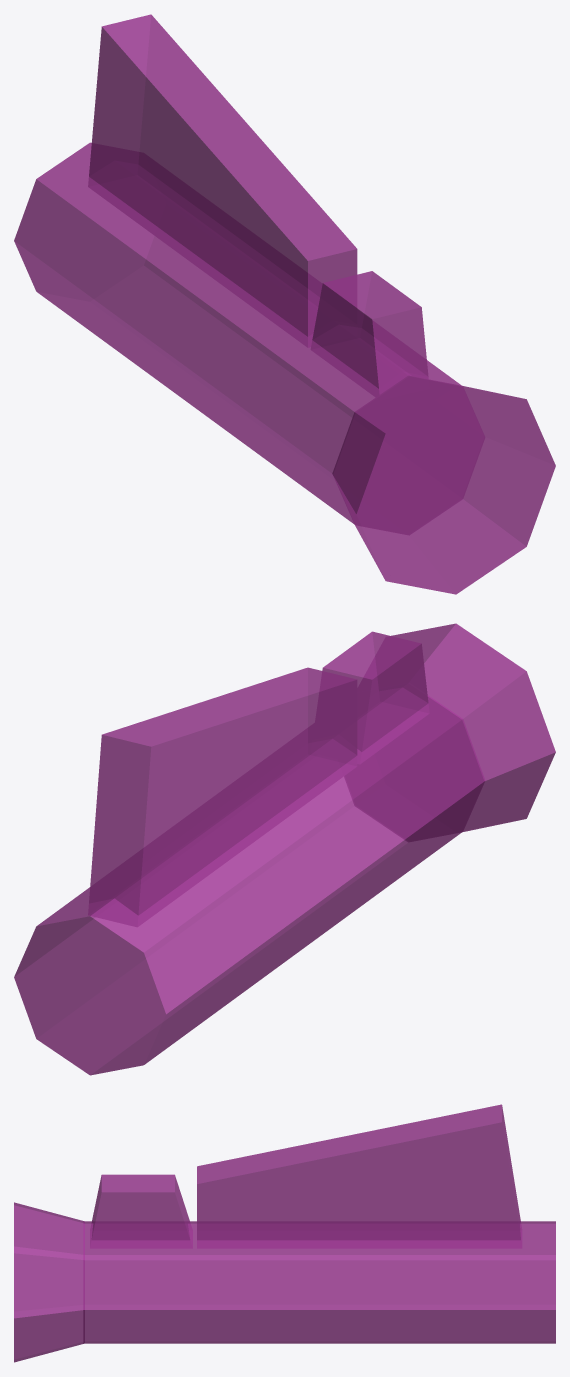
File: SM_Wep_Cannon_02_Cannon_Collision.fbx
The picture shows the model from 3 angles, top to bottom: view 1: azimuth 30°, elevation 25°; view 2: azimuth 150°, elevation 25°; view 3: azimuth 270°, elevation 25°; orthographic projection. The views are drawn at different scales.
Parts seen in each view (by area): view 1: SM_Wep_Cannon_02_Cannon_Collision; view 2: SM_Wep_Cannon_02_Cannon_Collision; view 3: SM_Wep_Cannon_02_Cannon_Collision.
Boxes of the visible parts, left/top/right/bottom form: SM_Wep_Cannon_02_Cannon_Collision: left=14, top=14, right=555, bottom=594; SM_Wep_Cannon_02_Cannon_Collision: left=14, top=623, right=555, bottom=1075; SM_Wep_Cannon_02_Cannon_Collision: left=14, top=1104, right=555, bottom=1362.
Size of the model in its own units: 80.35 by 128 by 255.
